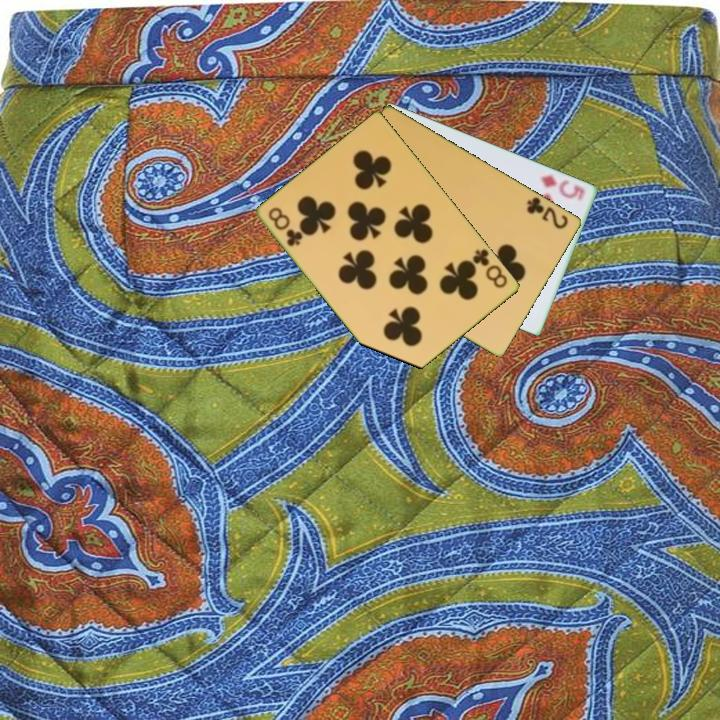2c: (523, 193, 571, 232)
5d: (538, 171, 588, 203)
8c: (467, 245, 511, 291), (265, 203, 306, 250)
